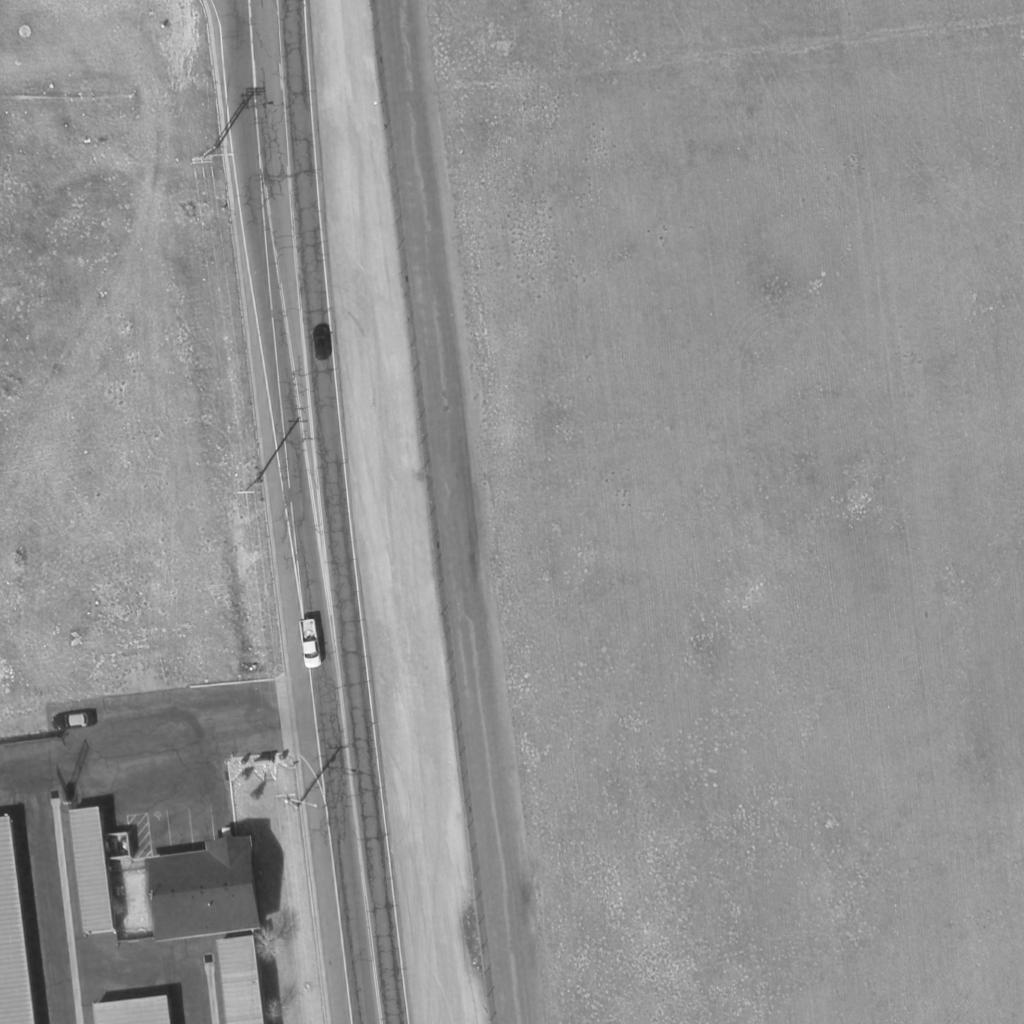vehicle: (299, 618, 325, 670), (51, 712, 91, 730), (312, 325, 332, 359)
